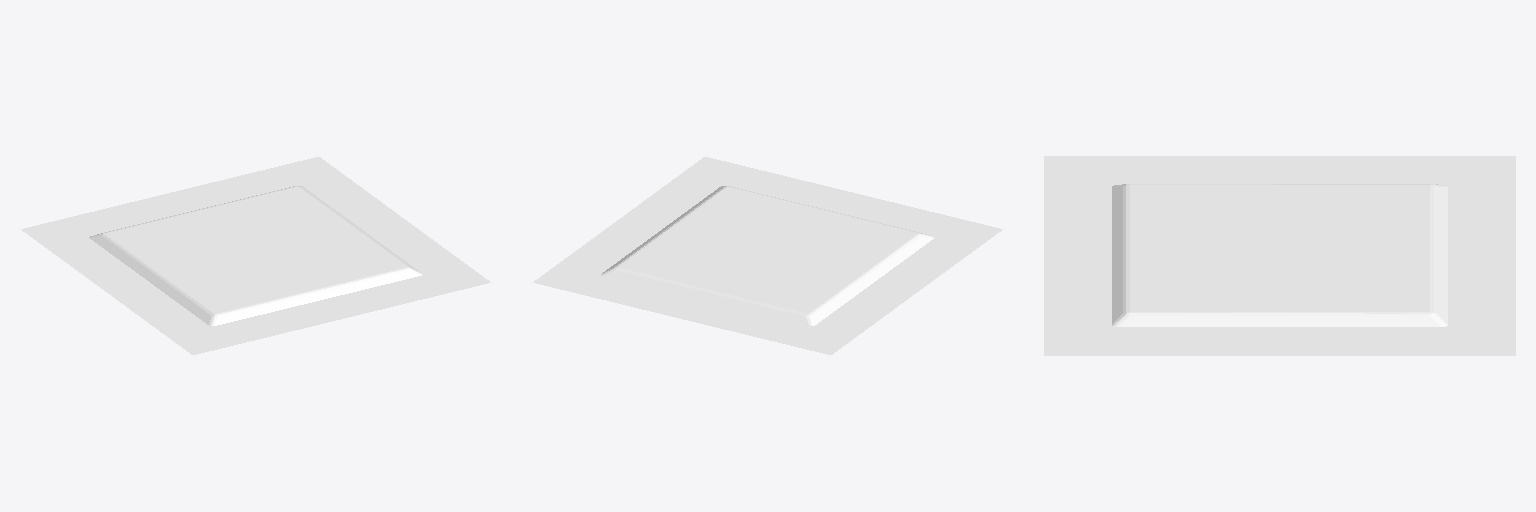
URDF robot description (tool):
<?xml version="1.0" encoding="utf-8"?>
<!-- This URDF was automatically created by SolidWorks to URDF Exporter! Originally created by Stephen Brawner ([email redacted]) 
     Commit Version: 1.6.0-1-g15f4949  Build Version: 1.6.7594.29634
     For more information, please see http://wiki.ros.org/sw_urdf_exporter -->
<robot
  name="tool">
  <link
    name="base_link">
    <inertial>
      <origin
        xyz="0 -1.22283338403804E-17 -0.0005"
        rpy="0 0 0" />
      <mass
        value="0.277072235125682" />
      <inertia
        ixx="0.00633057031210193"
        ixy="0"
        ixz="0"
        iyy="0.00646501949479452"
        iyz="0"
        izz="0.0127955436281906" />
    </inertial>
    <visual>
      <origin
        xyz="0 0 0"
        rpy="0 0 0" />
      <geometry>
        <mesh
          filename="package://tool/meshes/base_link.STL" />
      </geometry>
      <material
        name="">
        <color
          rgba="1 1 1 1" />
      </material>
    </visual>
    <collision>
      <origin
        xyz="0 0 0"
        rpy="0 0 0" />
      <geometry>
        <mesh
          filename="package://tool/meshes/base_link.STL" />
      </geometry>
    </collision>
  </link>
  <link
    name="tool">
    <inertial>
      <origin
        xyz="0 -1.22283338403804E-17 -0.0005"
        rpy="0 0 0" />
      <mass
        value="0.277072235125682" />
      <inertia
        ixx="0.00633057031210193"
        ixy="0"
        ixz="0"
        iyy="0.00646501949479452"
        iyz="0"
        izz="0.0127955436281906" />
    </inertial>
    <visual>
      <origin
        xyz="0 0 0"
        rpy="0 0 0" />
      <geometry>
        <mesh
          filename="package://tool/meshes/tool.STL" />
      </geometry>
      <material
        name="">
        <color
          rgba="1 1 1 1" />
      </material>
    </visual>
    <collision>
      <origin
        xyz="0 0 0"
        rpy="0 0 0" />
      <geometry>
        <mesh
          filename="package://tool/meshes/tool.STL" />
      </geometry>
    </collision>
  </link>
  <joint
    name="end"
    type="fixed">
    <origin
      xyz="0 0 0"
      rpy="0 0 0" />
    <parent
      link="base_link" />
    <child
      link="tool" />
    <axis
      xyz="0 0 -1" />
  </joint>
</robot>

--- Facts derived from the render (not from the file) ---
3 views of the same robot in one strip: view 1: azimuth 30°, elevation 25°; view 2: azimuth 150°, elevation 25°; view 3: azimuth 270°, elevation 25° (orthographic).
Model tool with 2 links and 1 joints (1 fixed), rooted at base_link, posed all joints at 0.
Links seen in each view (by area): view 1: tool; view 2: tool; view 3: tool.
Link boxes in pixels (box(x1,y1,x2,y2)): tool: box(21, 157, 490, 354); tool: box(533, 157, 1002, 354); tool: box(1044, 156, 1515, 355).
Size in the robot's own frame: 0.56 by 0.56 by 0.013 metres.
2 mesh visuals loaded from 2 distinct referenced files (2 binary STL).
